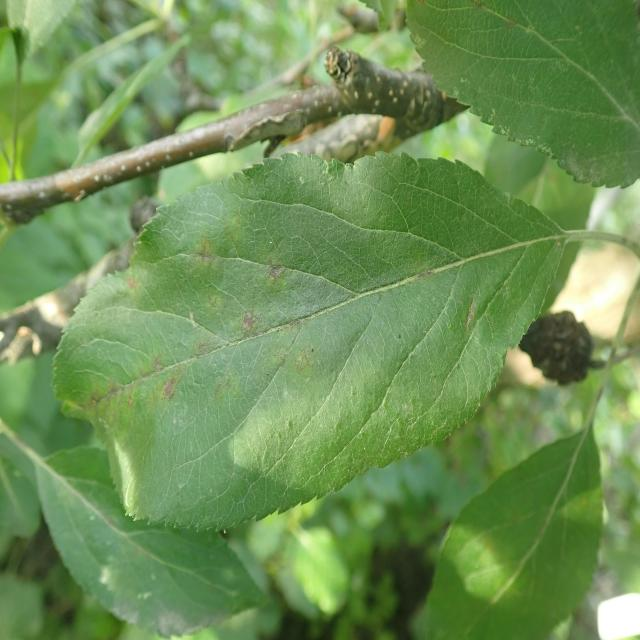scab: (85, 209, 538, 475)
